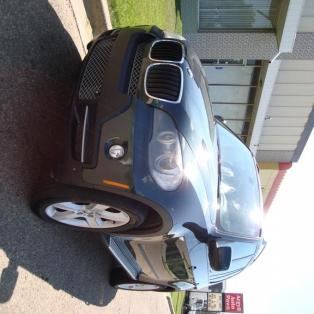Auto: (30, 36, 314, 212)
